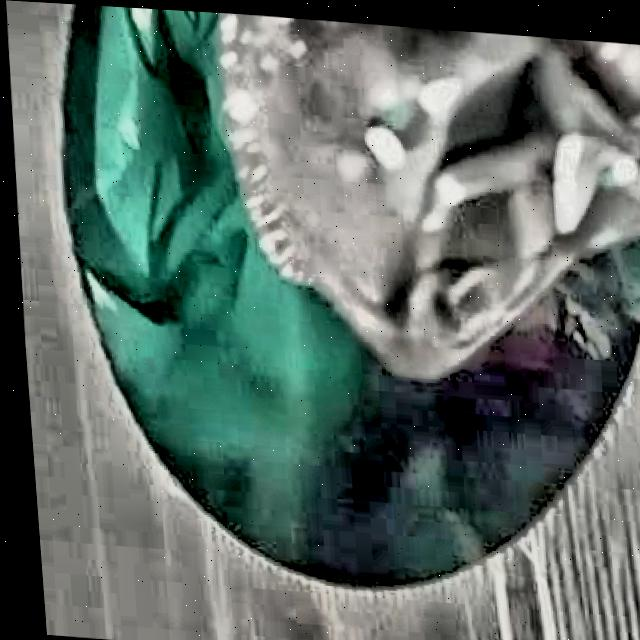metal: (220, 10, 640, 372)
